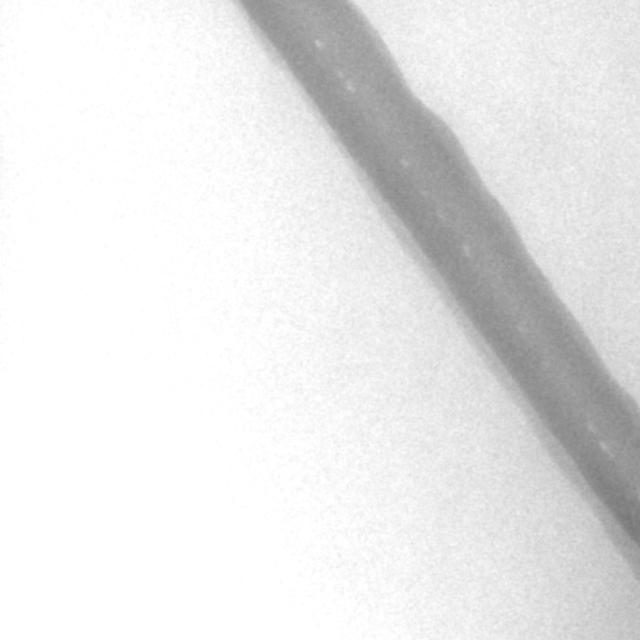air hole: (344, 78, 358, 98), (460, 240, 473, 259), (597, 436, 608, 451), (312, 35, 322, 49), (334, 67, 342, 78)
